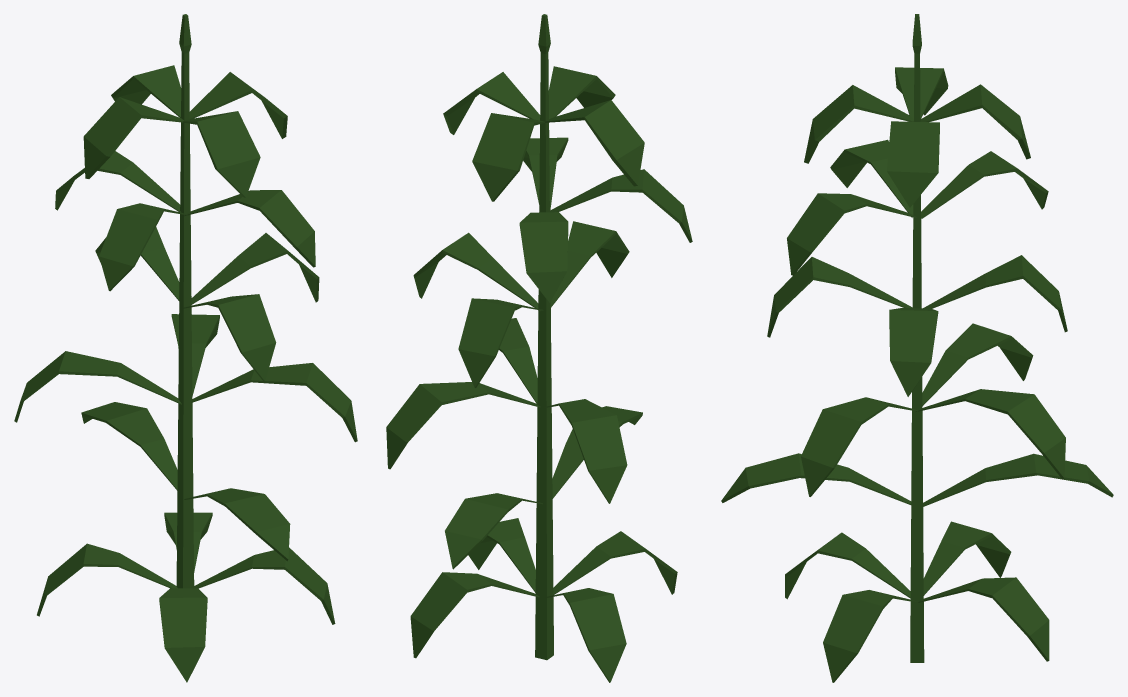
File: prop_Corn_1.glb
3 renders of one model, left to right at view 1: azimuth 30°, elevation 25°; view 2: azimuth 150°, elevation 25°; view 3: azimuth 270°, elevation 25°, orthographic.
Visible parts, largest first — view 1: Corn_1; view 2: Corn_1; view 3: Corn_1.
Part boxes in pixels (x1,y1,x2,y2): Corn_1: (14,14,357,682); Corn_1: (386,14,692,682); Corn_1: (721,14,1113,682).
Size of the model in its own units: 0.8237 by 1.98 by 1.09.
